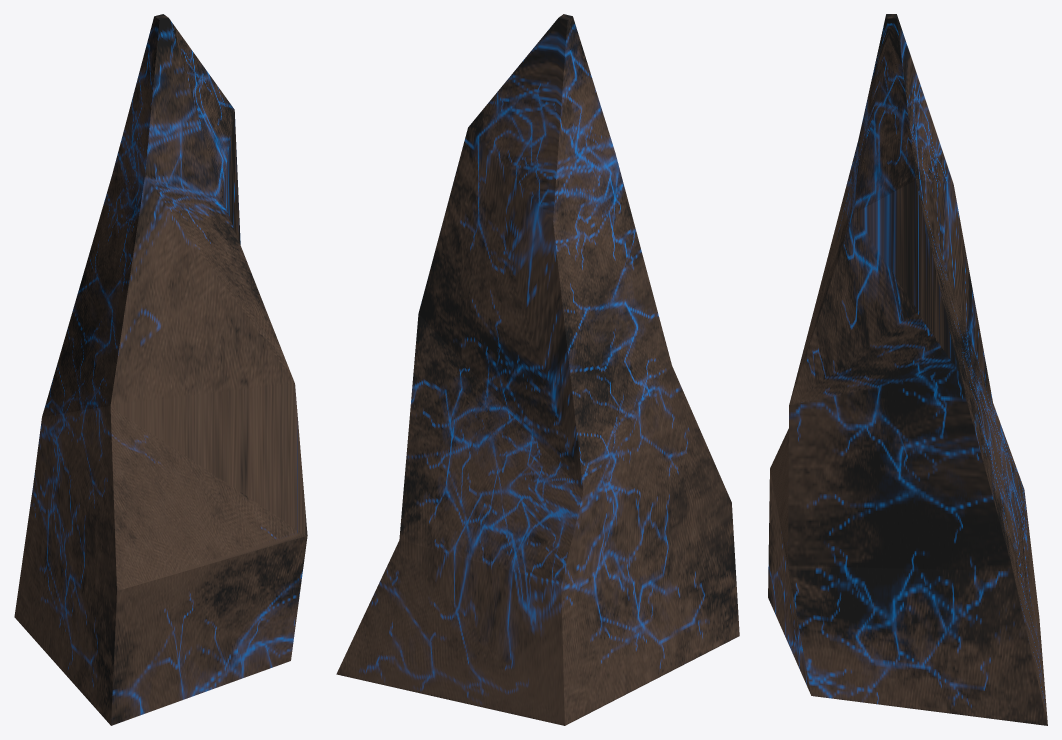
File: PiedraLuminosa.fbx
3 renders of one model, left to right at view 1: azimuth 30°, elevation 25°; view 2: azimuth 150°, elevation 25°; view 3: azimuth 270°, elevation 25°, orthographic.
Visible parts, largest first — view 1: Cubo.016; view 2: Cubo.016; view 3: Cubo.016.
Part boxes in pixels (left/top/right/bottom): Cubo.016: left=14, top=14, right=307, bottom=725; Cubo.016: left=336, top=14, right=739, bottom=725; Cubo.016: left=768, top=14, right=1047, bottom=725.
Bounding box in the file's own units: 282 × 652 × 260.
Materials: 1 (1 with a texture image).
